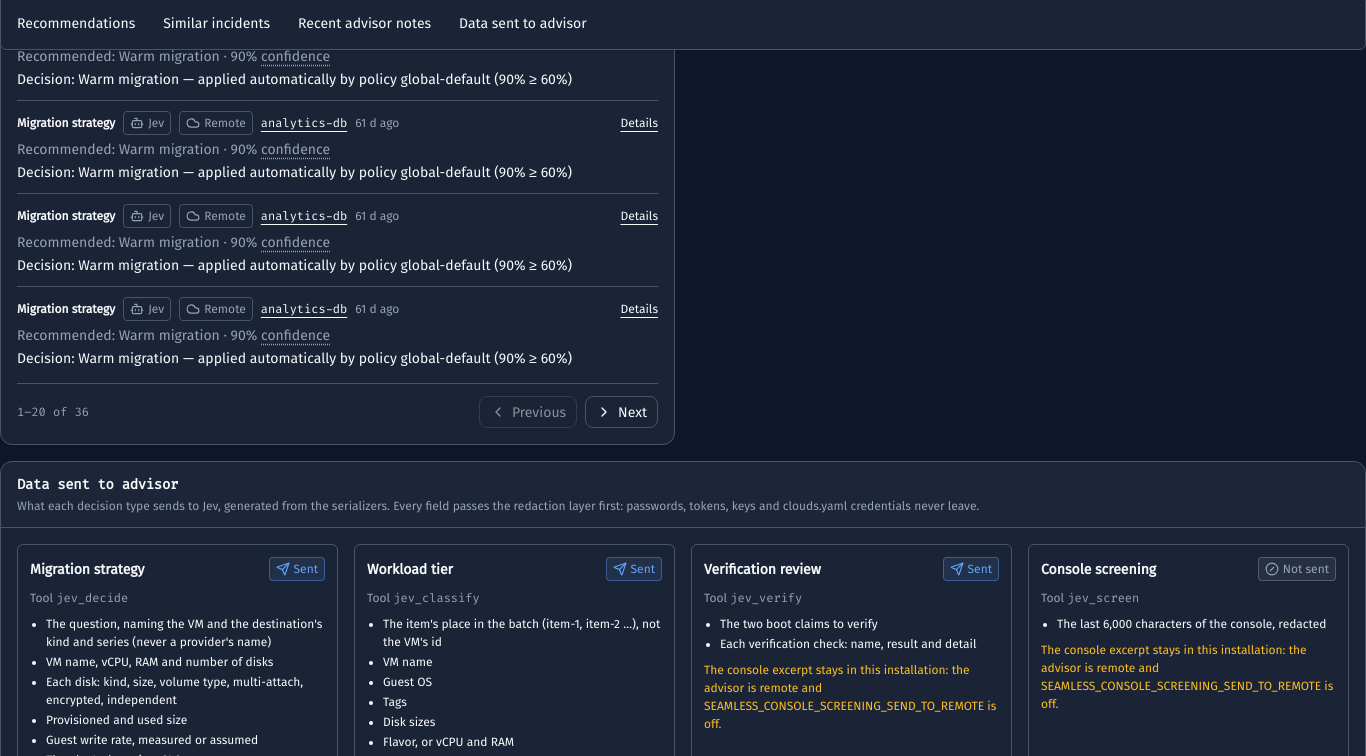
Test: Advisor page › filters the feed by plan and decision type, keeps both in the address and goes back to the first page (SDD §16)
The image size is (1366, 756).
(page scrolled)
Expected: the text "1–20 of 36" is shown, [17,403,89,421]
Click the button "Next".
click(622, 412)  # box [585,396,658,428]
(page scrolled)
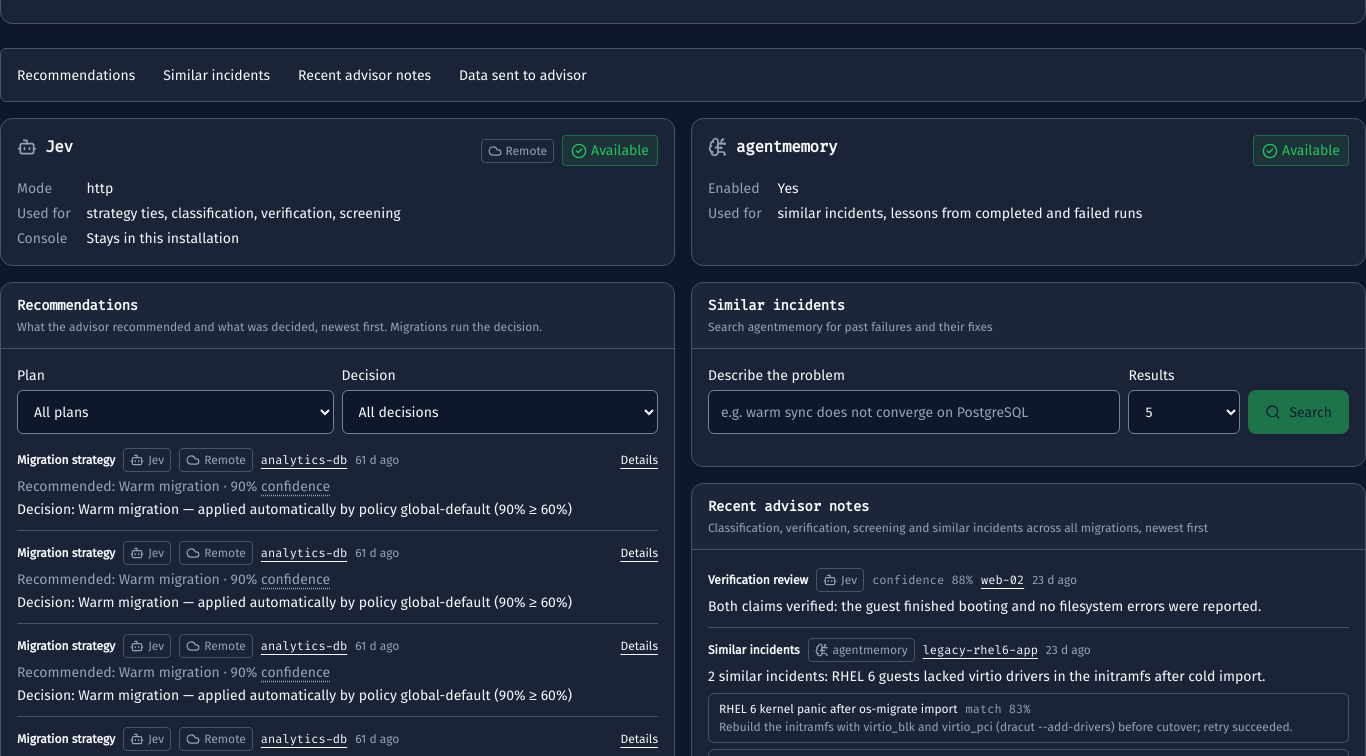
Select "Shared Ceph handover — analytics" in the dropdown labelled "Plan" at [175, 412], box [17,390,334,434]
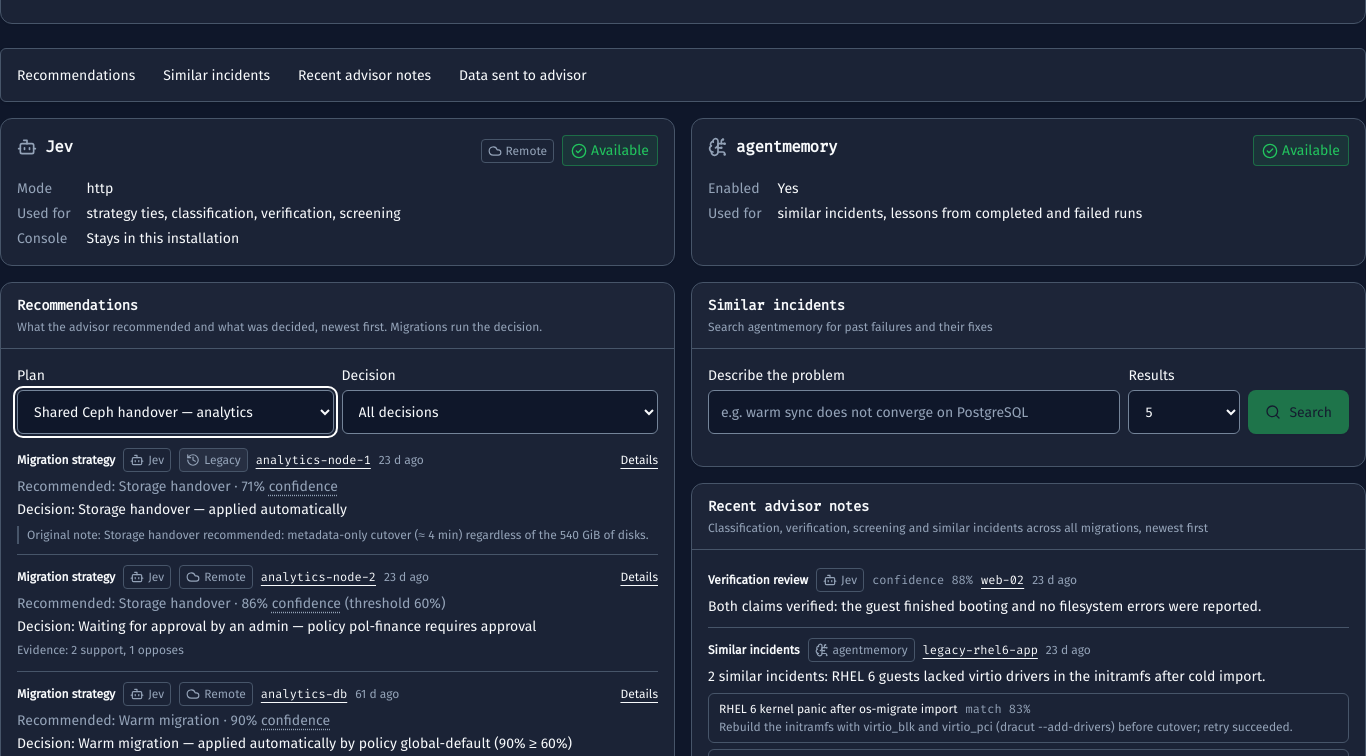
Select "Workload tier" in the dropdown labelled "Decision" at [500, 412], box [342,390,658,434]
(page scrolled)
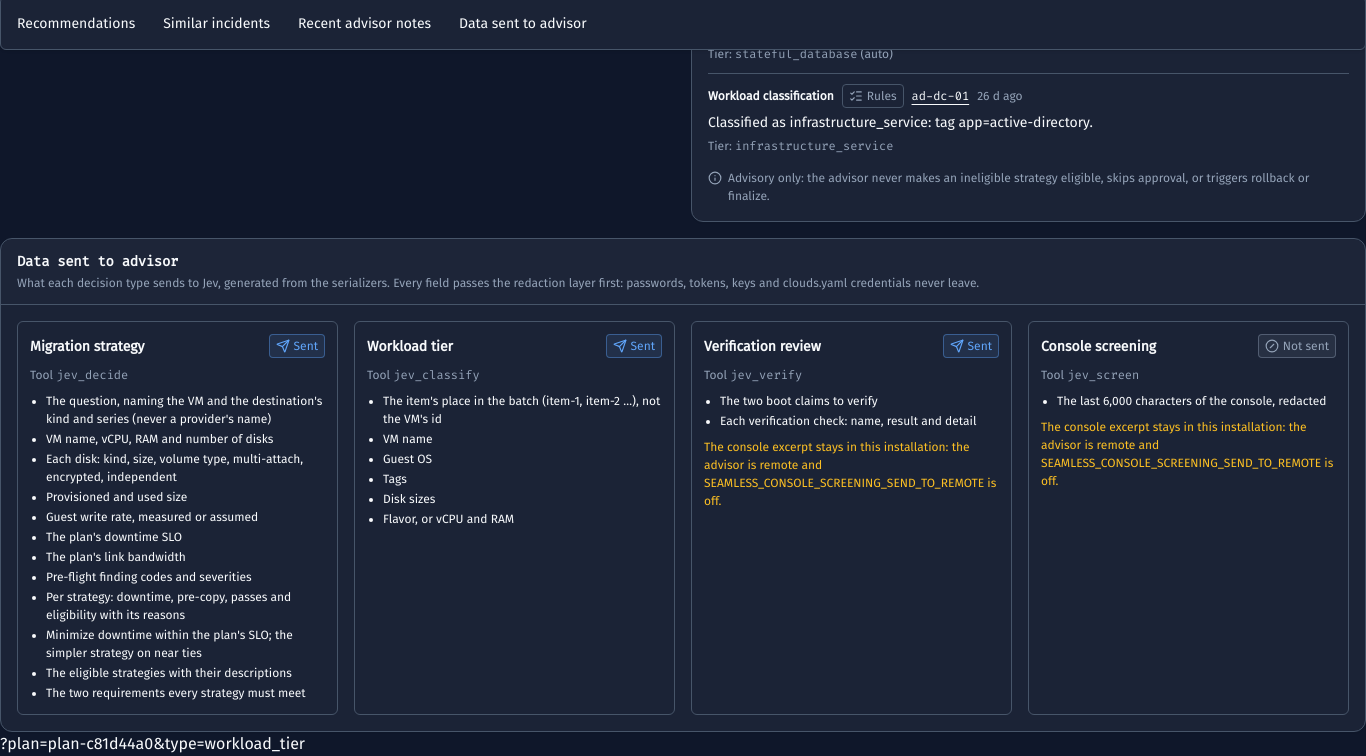
Expected: the text "Decision: " is not shown
Expected: the text with test id "where" shows "type=workload_tier", [0,734,305,753]
